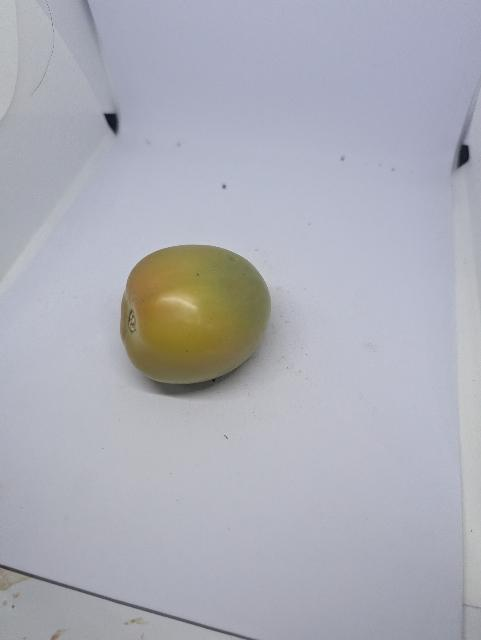breaker: (120, 236, 274, 389)
